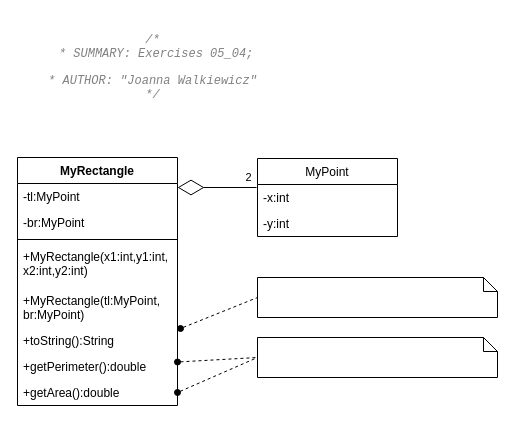
Some shapes in this 515 by 425 pixel diagram are drawn without their labels. Here are the shapes that lost their labels. From the top down, the centre of each, then its label:
[377,297]: "MyRectangle[tl=(x1,y1),br=(x2,y2)]"
[377,357]: Use MyPoint's distance() method
